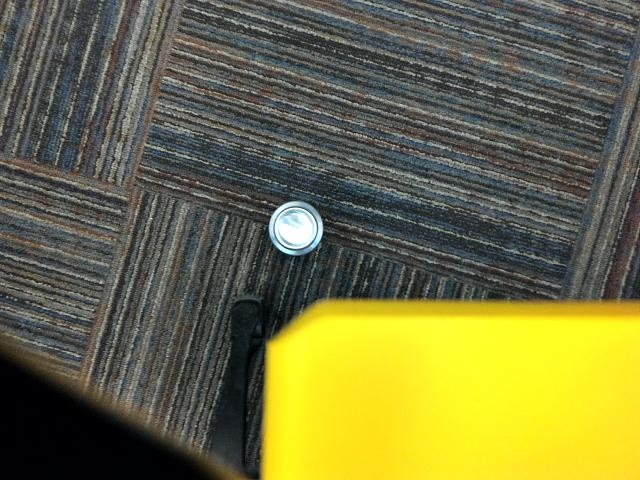can: (266, 198, 326, 269)
